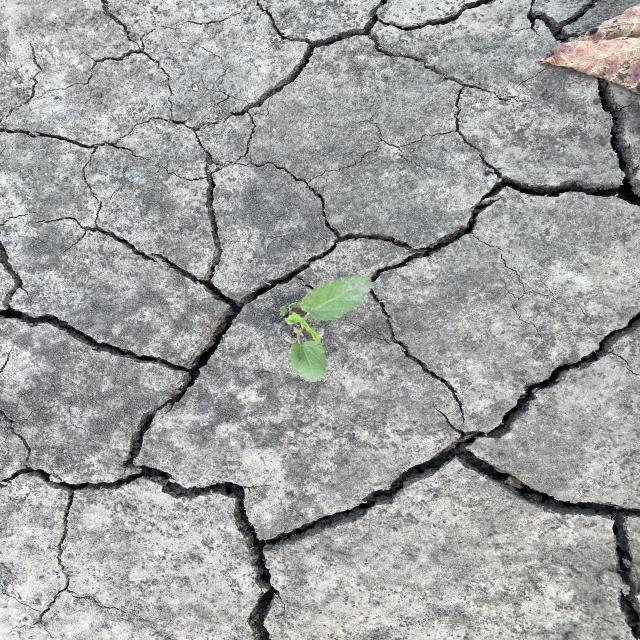PricklySida: (282, 272, 374, 384)
